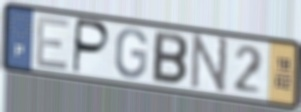2: (232, 44, 265, 97)
B: (151, 29, 190, 88)
E: (34, 15, 71, 73)
G: (113, 27, 149, 81)
N: (188, 32, 230, 97)
P: (70, 16, 112, 77)
